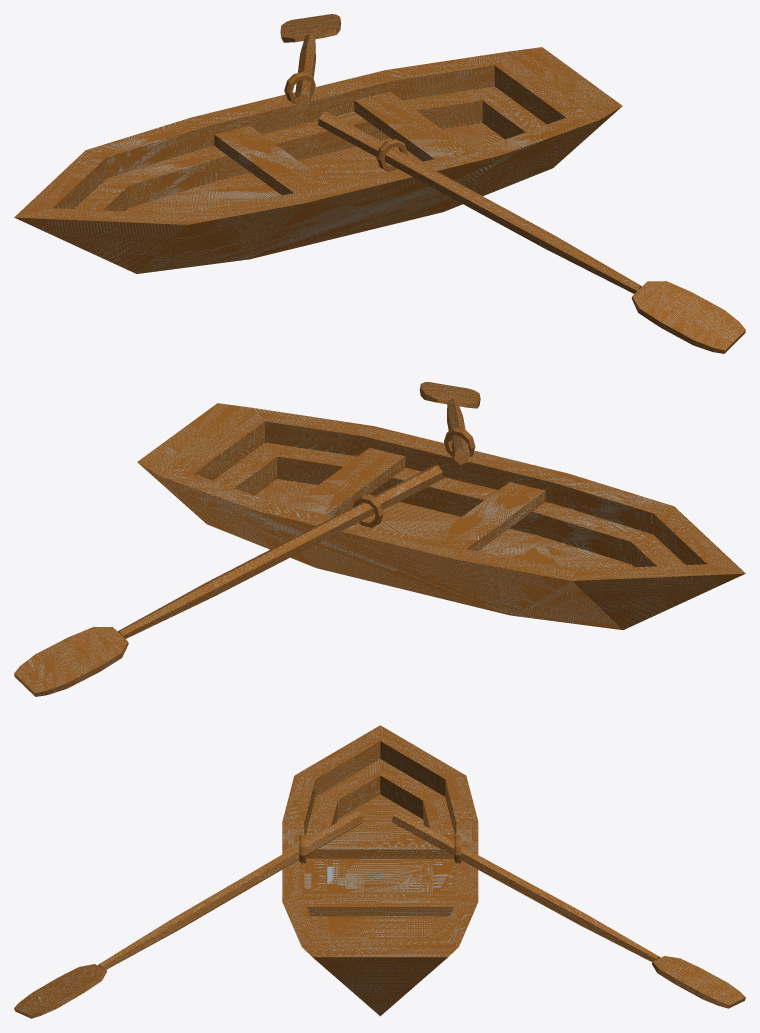
The model's file is Boat_Small_01.fbx.
3 views of the same model, one above another, from view 1: azimuth 30°, elevation 25°; view 2: azimuth 150°, elevation 25°; view 3: azimuth 270°, elevation 25° (orthographic). The views are drawn at different scales.
Parts seen in each view (by area): view 1: Model; view 2: Model; view 3: Model.
Part boxes in pixels (x1,y1,x2,y2): Model: (14,14,745,353); Model: (14,382,745,696); Model: (14,725,745,1018).
Bounding box in the file's own units: 693 × 166 × 917.
